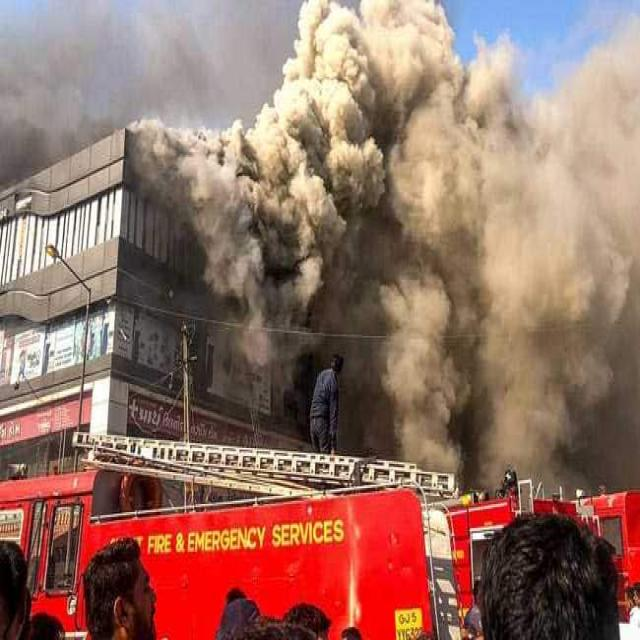smoke: (462, 138, 634, 490), (301, 3, 451, 399), (195, 136, 294, 358)
